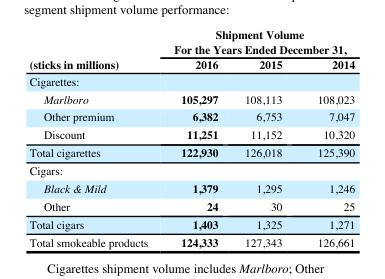table: (28, 28, 354, 248)
table column: (28, 28, 160, 248), (160, 28, 230, 248), (230, 28, 299, 248), (299, 28, 354, 248)
table column header: (28, 28, 354, 73)
table projected row header: (28, 162, 354, 180), (28, 73, 354, 90)
table row: (28, 28, 354, 57), (28, 90, 354, 108), (28, 108, 354, 126), (28, 126, 354, 144), (28, 144, 354, 162), (28, 162, 354, 180), (28, 180, 354, 198), (28, 215, 354, 233), (28, 73, 354, 90), (28, 198, 354, 215), (28, 57, 354, 73), (28, 233, 354, 248)
table spanning cell: (28, 28, 160, 73), (160, 28, 354, 57)
